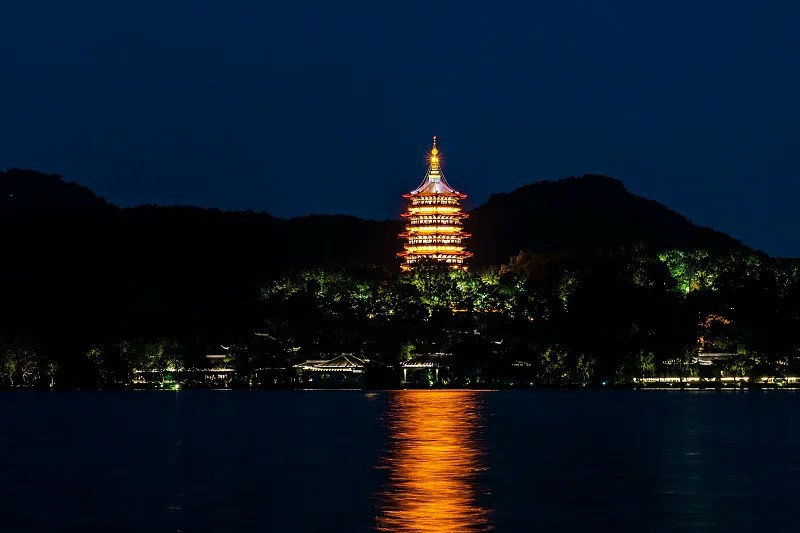Leifeng: (392, 133, 474, 272)
